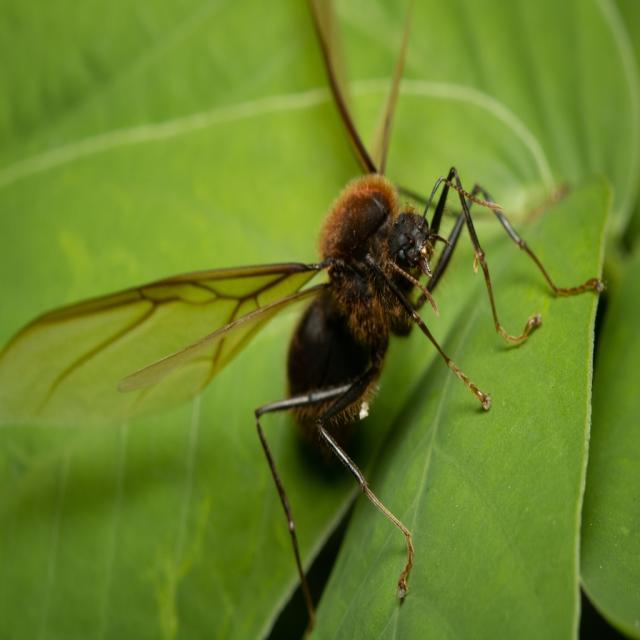Alive-Male-Alate: (0, 0, 602, 632)
